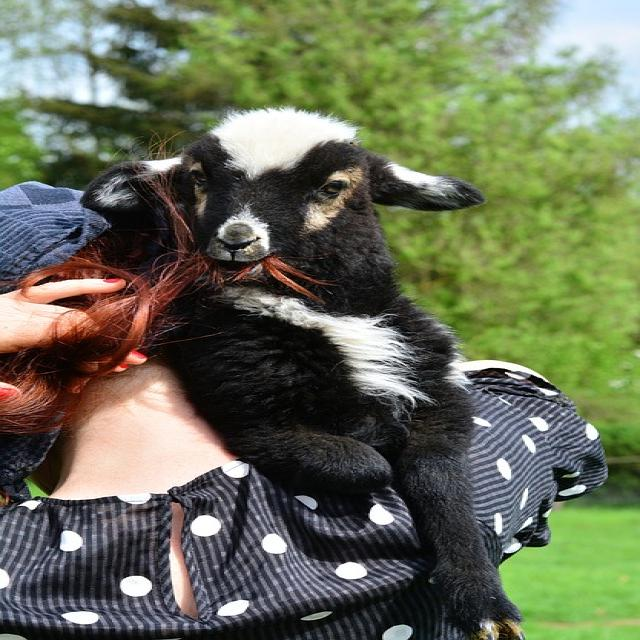sheep: (72, 105, 527, 638)
